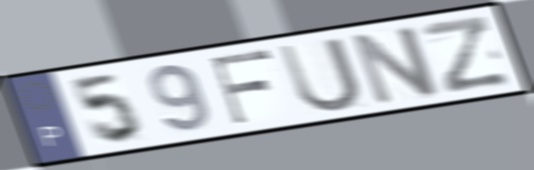5: (65, 69, 143, 145)
9: (145, 61, 214, 135)
F: (208, 47, 276, 128)
N: (348, 22, 443, 108)
U: (275, 34, 365, 116)
Z: (417, 13, 514, 97)
